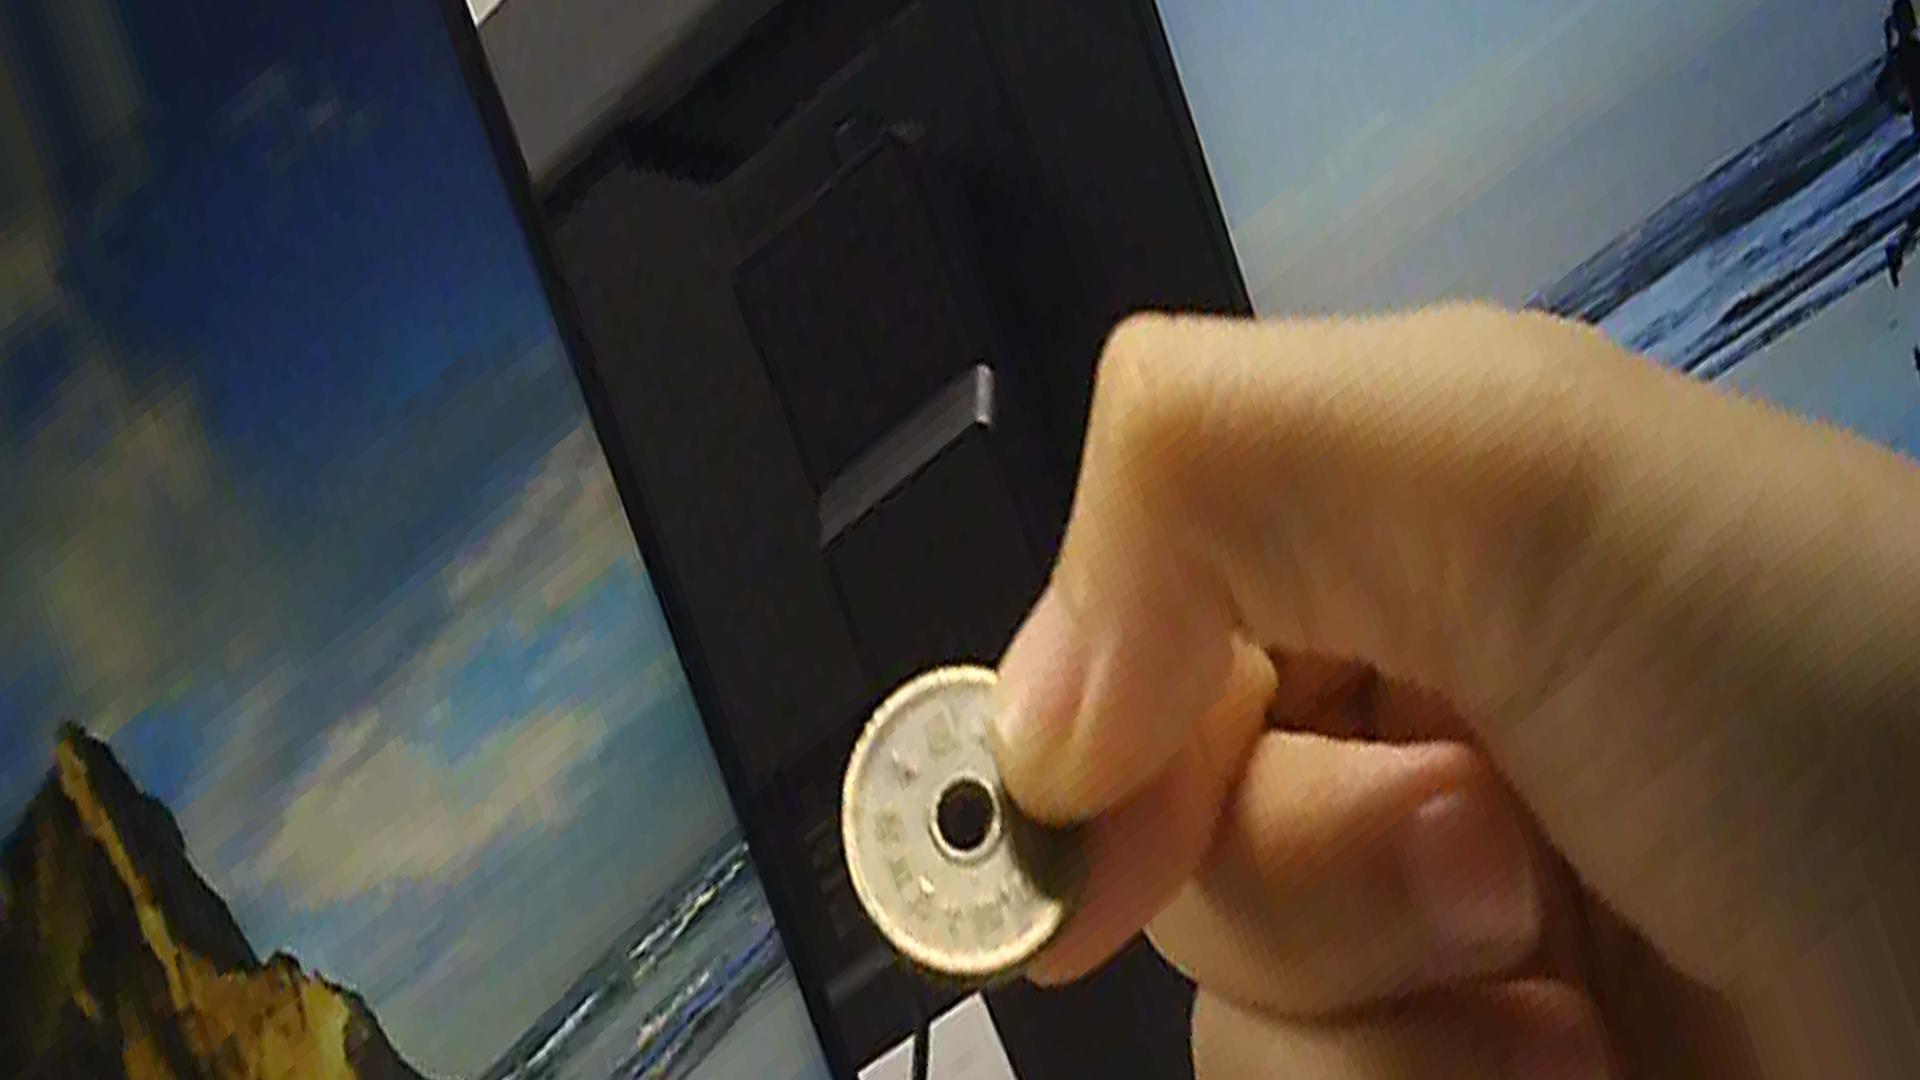5 Yen: (839, 665, 1071, 975)
